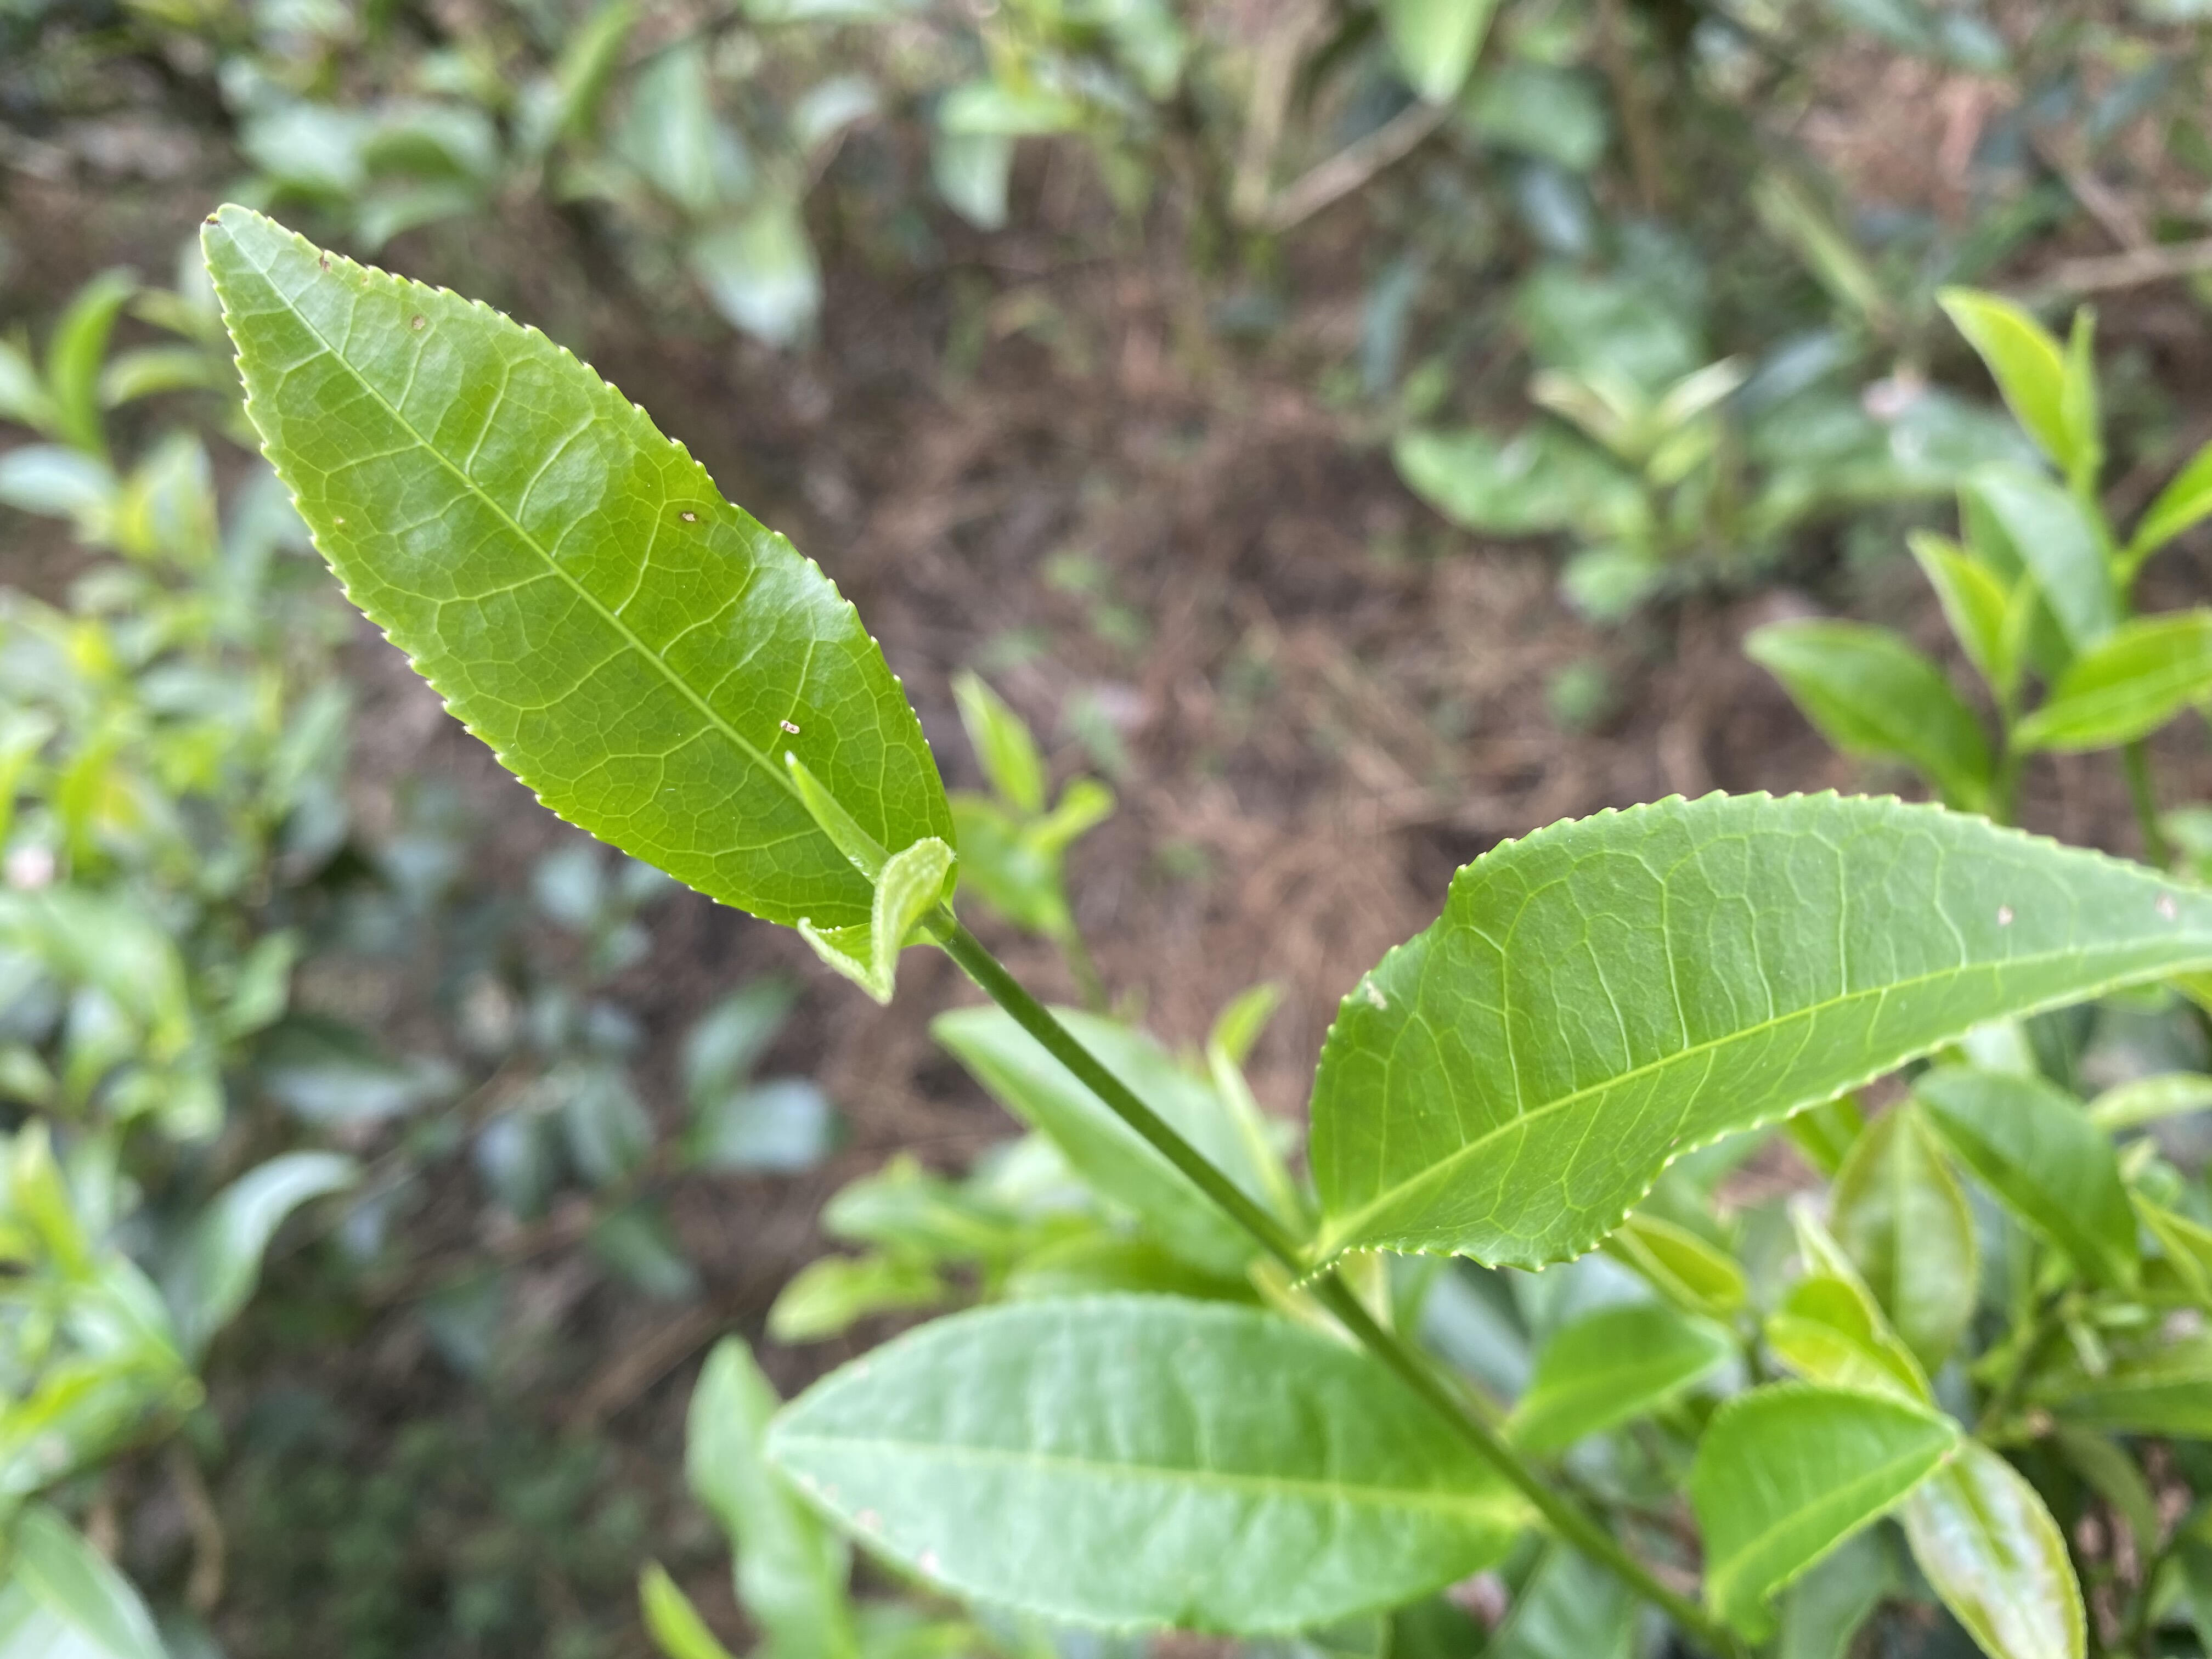tanju_low: (199, 204, 956, 941), (1291, 786, 2210, 1290)
